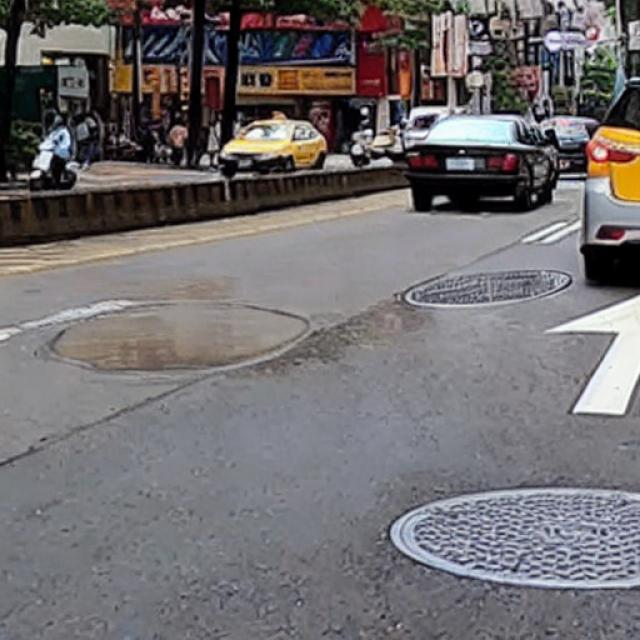puddle: (57, 298, 309, 375)
